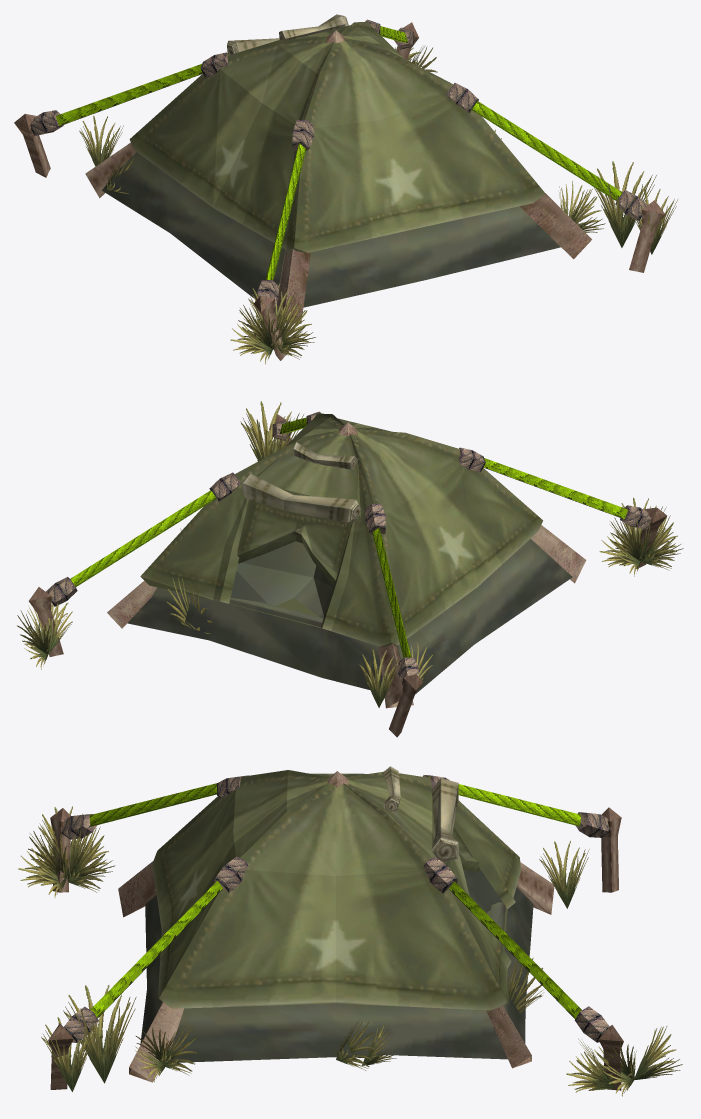
File: C1SMSMALLTENT3H.obj
3 renders of one model, top to bottom at view 1: azimuth 30°, elevation 25°; view 2: azimuth 150°, elevation 25°; view 3: azimuth 270°, elevation 25°, orthographic. The views are drawn at different scales.
Parts seen in each view (by area): view 1: Node 2, Node 0, Node 5, Node 3, Node 6, Node 7, Node 4; view 2: Node 2, Node 0, Node 7, Node 3, Node 4, Node 6, Node 5; view 3: Node 2, Node 0, Node 5, Node 3, Node 4, Node 7, Node 6.
Boxes of the visible parts, <box> form: Node 2: <box>79,22,677,323</box>; Node 0: <box>105,22,656,364</box>; Node 5: <box>446,83,665,272</box>; Node 3: <box>14,52,229,177</box>; Node 6: <box>253,143,306,360</box>; Node 7: <box>227,14,348,54</box>; Node 4: <box>365,19,414,49</box>; Node 2: <box>24,409,586,708</box>; Node 0: <box>17,401,683,680</box>; Node 7: <box>242,442,361,522</box>; Node 3: <box>365,504,422,737</box>; Node 4: <box>46,472,241,606</box>; Node 6: <box>483,457,666,568</box>; Node 5: <box>269,411,321,446</box>; Node 2: <box>41,770,682,1091</box>; Node 0: <box>18,806,636,1096</box>; Node 5: <box>48,856,248,1089</box>; Node 3: <box>423,775,621,892</box>; Node 4: <box>423,857,609,1042</box>; Node 7: <box>382,766,458,862</box>; Node 6: <box>50,783,216,892</box>.
Size of the model in its own units: 9.31 by 3.83 by 10.47.
